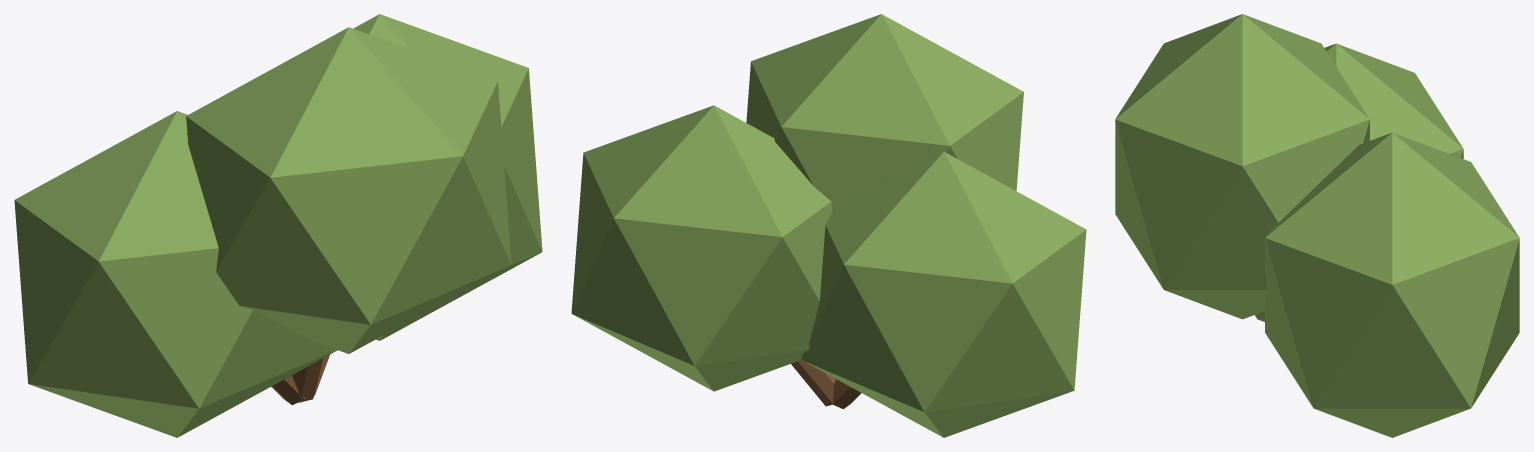
File: CC_Bush.fbx
3 views of the same model, side by side, from view 1: azimuth 30°, elevation 25°; view 2: azimuth 150°, elevation 25°; view 3: azimuth 270°, elevation 25° (orthographic). The views are drawn at different scales.
Visible parts, largest first — view 1: Foliage.002, Foliage, Foliage.001, Twig.005; view 2: Foliage, Foliage.001, Foliage.002, Twig.004, Twig.003; view 3: Foliage.001, Foliage.002, Foliage.
Part boxes in pixels (left/top/right/bottom): Foliage.002: left=186, top=27, right=511, bottom=353; Foliage: left=14, top=111, right=337, bottom=437; Foliage.001: left=353, top=14, right=542, bottom=340; Twig.005: left=292, top=358, right=322, bottom=402; Foliage: left=801, top=151, right=1086, bottom=437; Foliage.001: left=571, top=105, right=832, bottom=391; Foliage.002: left=746, top=14, right=1023, bottom=210; Twig.004: left=791, top=360, right=835, bottom=406; Twig.003: left=831, top=379, right=861, bottom=409; Foliage.001: left=1265, top=132, right=1519, bottom=437; Foliage.002: left=1115, top=14, right=1369, bottom=319; Foliage: left=1255, top=43, right=1463, bottom=321.
Bounding box in the file's own units: 1.53 × 1.15 × 1.08.
